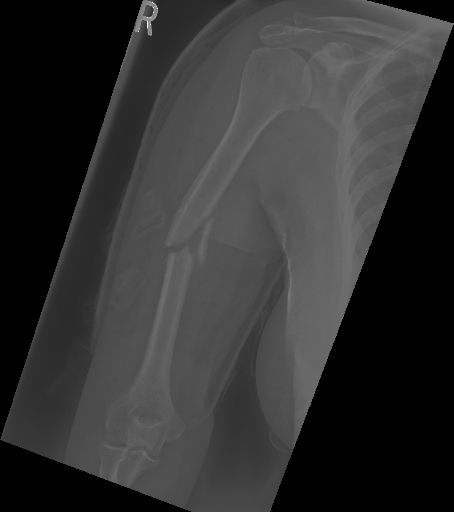fracture: (160, 202, 222, 289)
